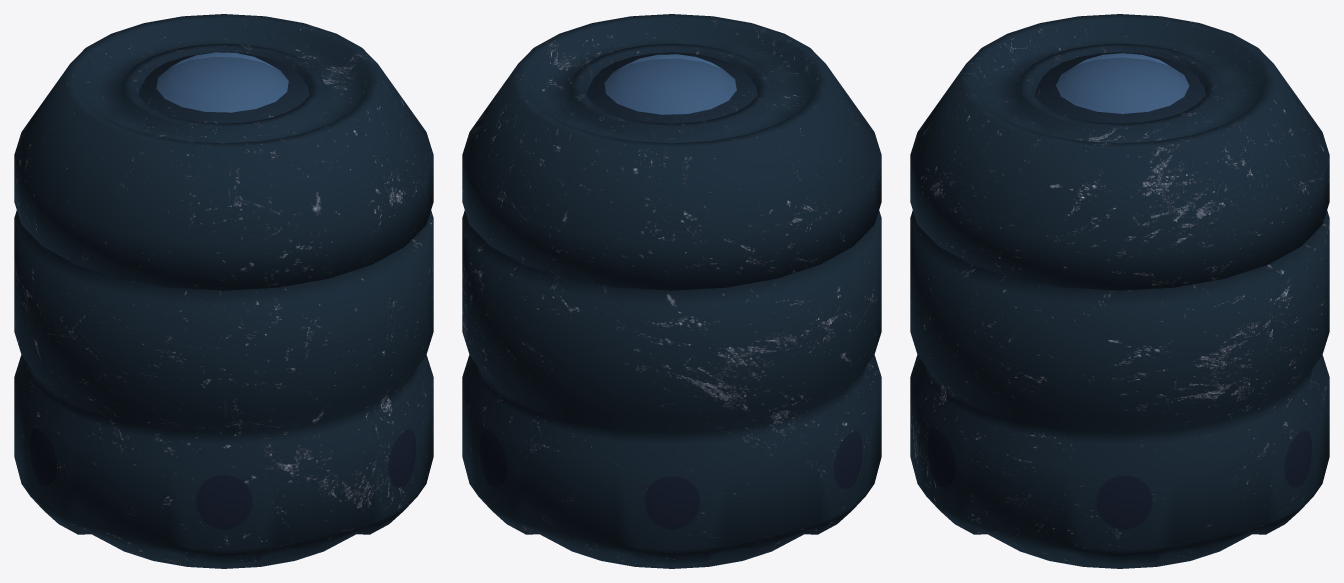
Rendered from SM_Ammo_00.fbx.
3 renders of one model, left to right at view 1: azimuth 30°, elevation 25°; view 2: azimuth 150°, elevation 25°; view 3: azimuth 270°, elevation 25°, orthographic.
Visible parts, largest first — view 1: SM_Ammo_00, SM_GlassPlating_Ammo_00; view 2: SM_Ammo_00, SM_GlassPlating_Ammo_00; view 3: SM_Ammo_00, SM_GlassPlating_Ammo_00.
Boxes of the visible parts, <box> form: SM_Ammo_00: <box>14,14,433,568</box>; SM_GlassPlating_Ammo_00: <box>156,52,288,112</box>; SM_Ammo_00: <box>462,14,881,568</box>; SM_GlassPlating_Ammo_00: <box>604,54,736,114</box>; SM_Ammo_00: <box>910,14,1329,568</box>; SM_GlassPlating_Ammo_00: <box>1056,53,1188,113</box>.
Bounding box in the file's own units: 114 × 133 × 114.
